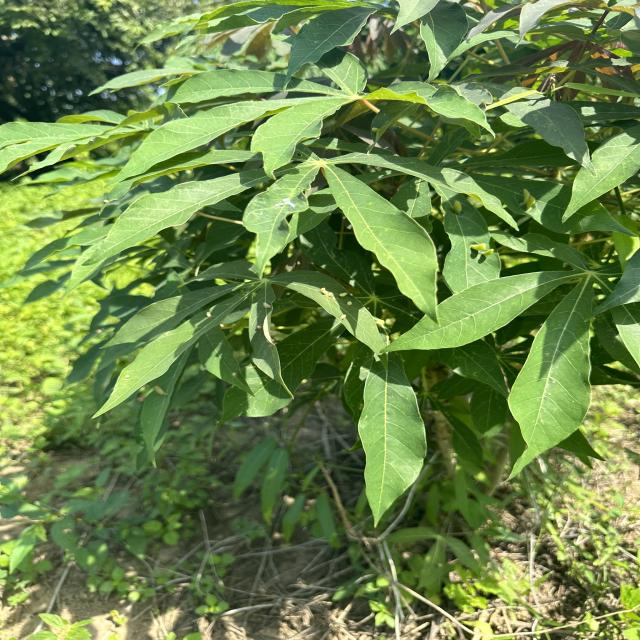Mosca: (138, 376, 169, 407), (516, 184, 542, 219), (467, 237, 497, 266), (449, 189, 467, 219), (467, 189, 487, 211), (258, 296, 279, 316), (199, 301, 217, 321), (319, 282, 336, 299), (337, 312, 353, 330)
